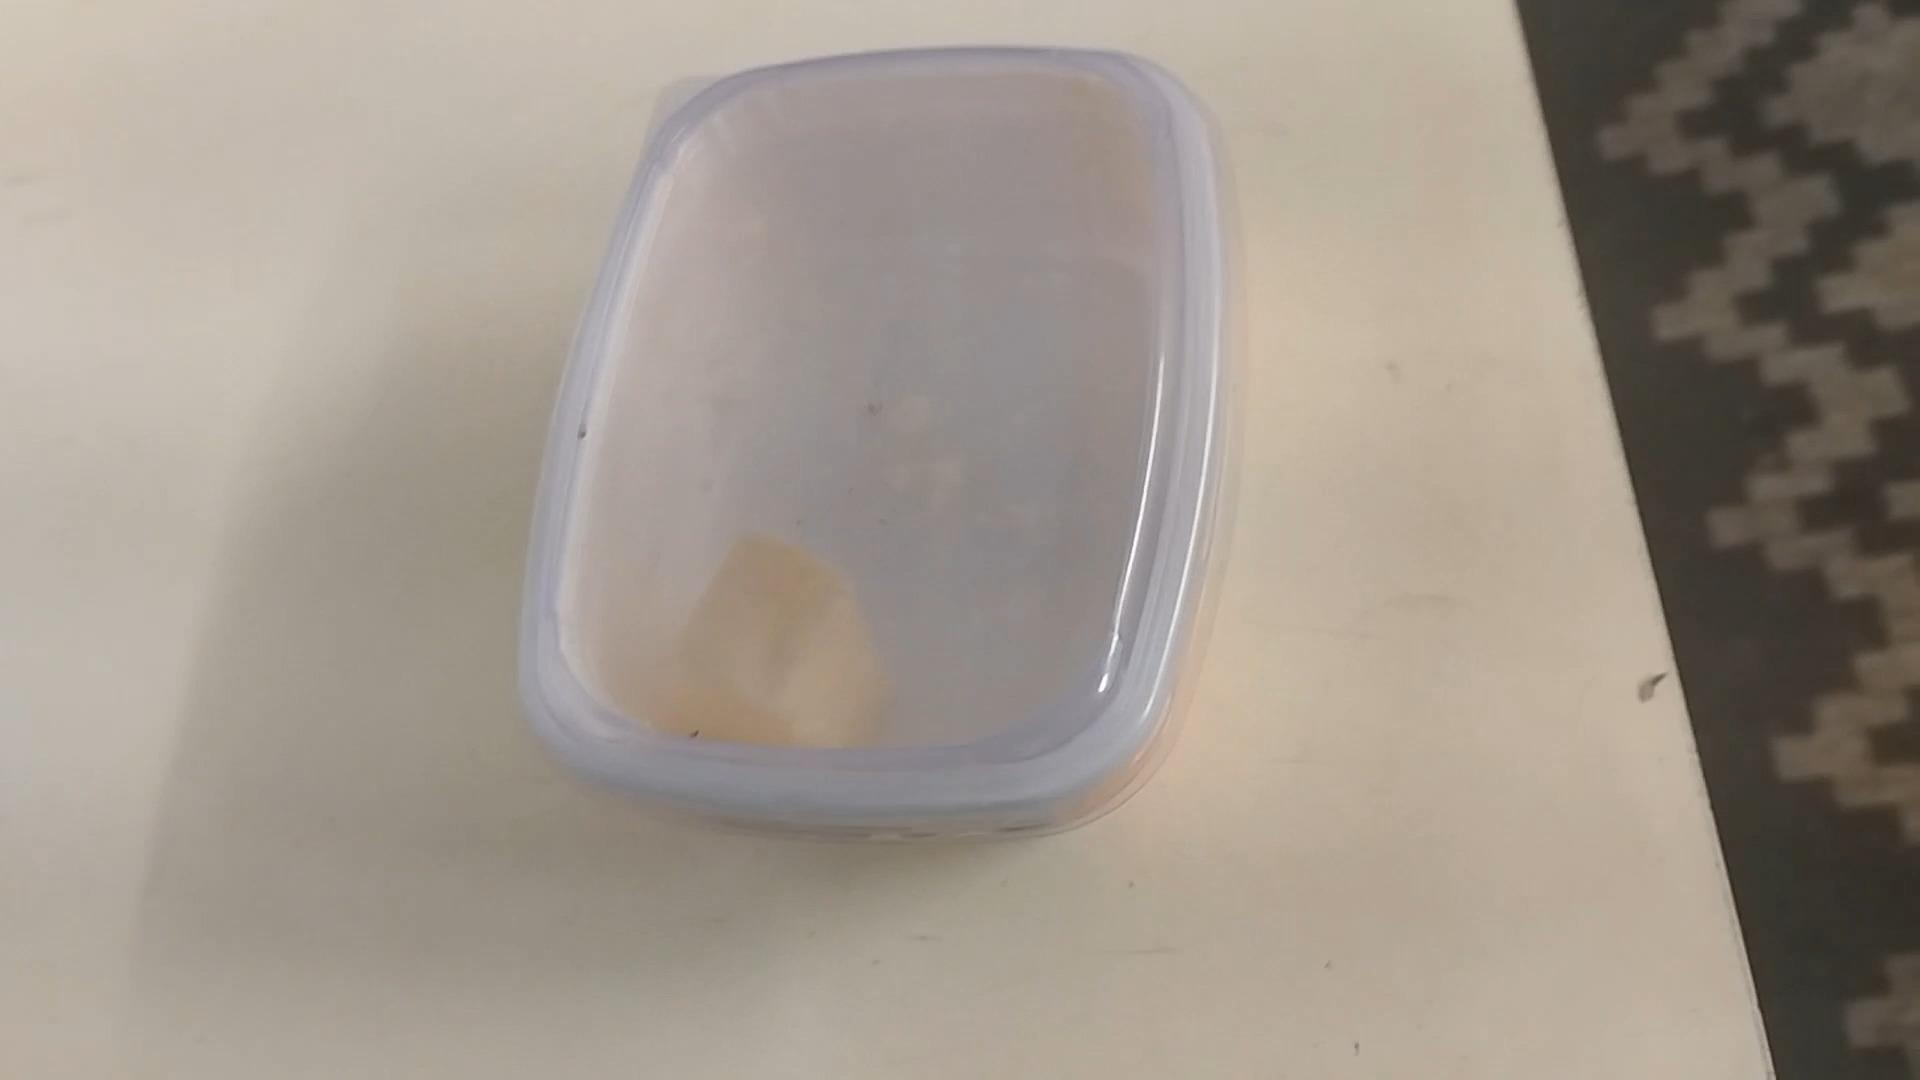butter: (517, 51, 1230, 847)
